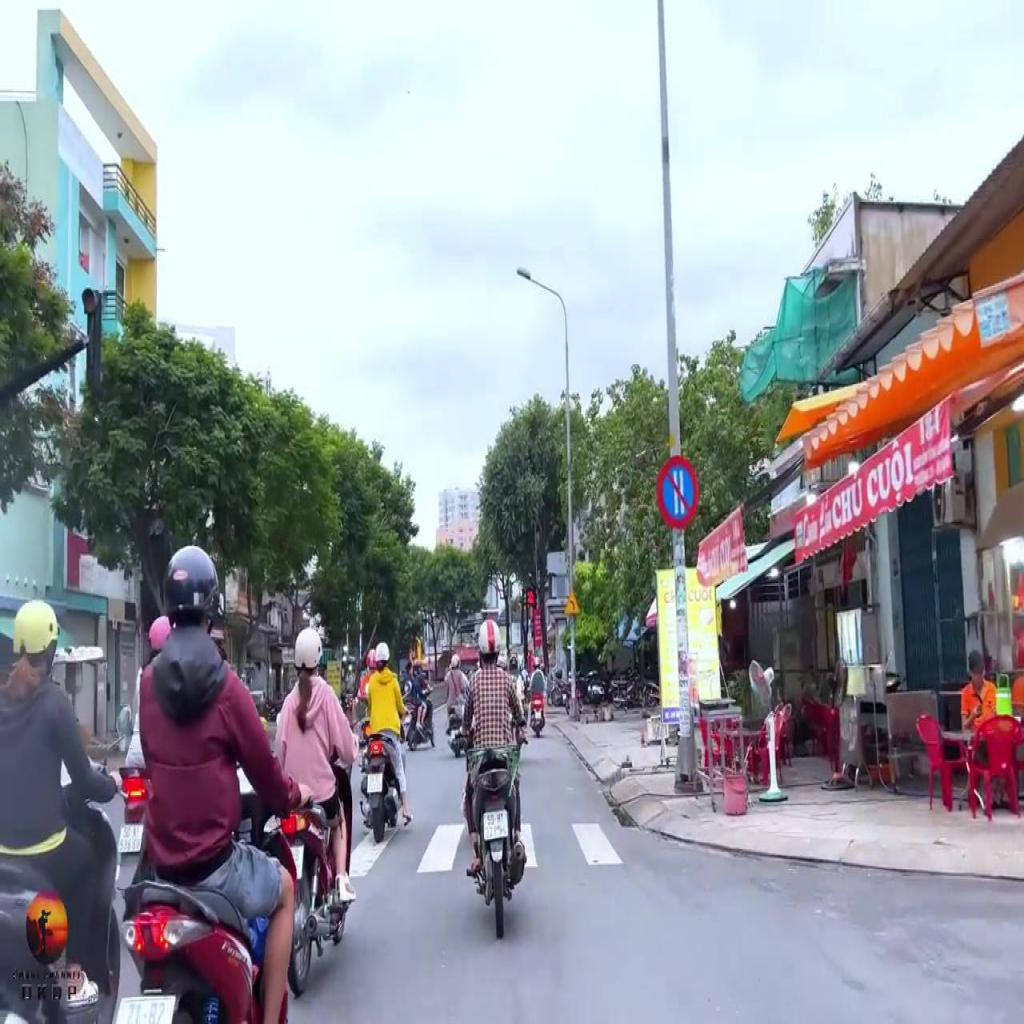cam_do_xe: (654, 452, 700, 532)
cho_ngoat_nguy_hiem_ben_trai: (562, 587, 580, 613)
